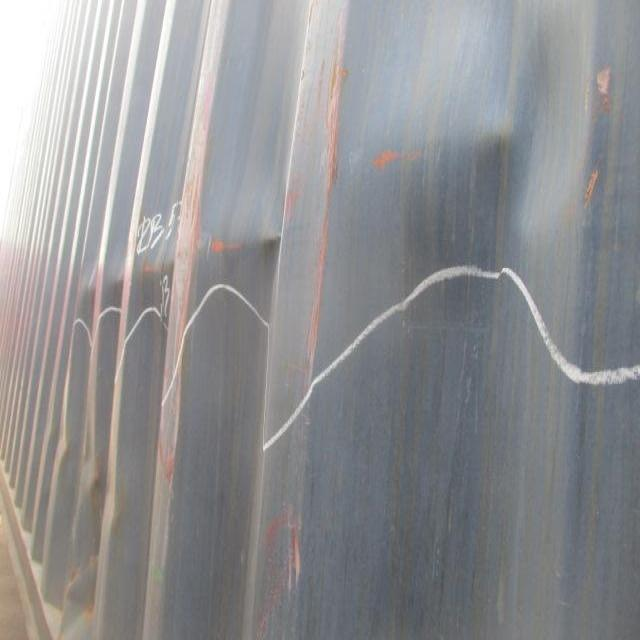dent: (319, 1, 617, 324), (56, 162, 340, 360), (29, 403, 164, 640)
